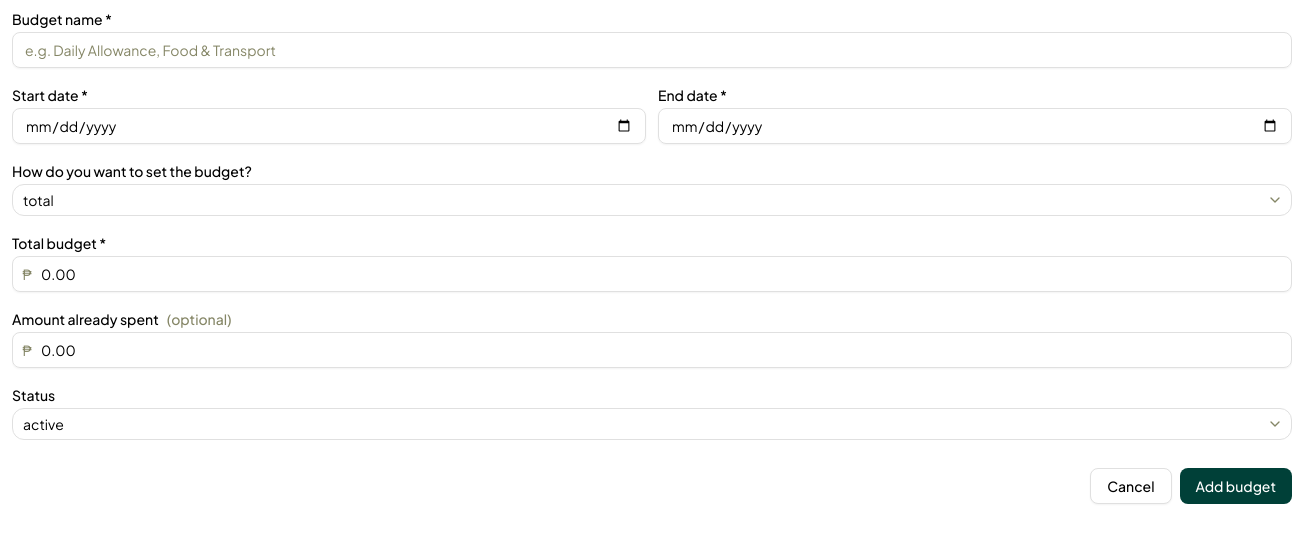
Test: AllowanceBudgetForm › shows days in range when both dates are filled
Type "2026-07-01" into the date field labelled "Start date *". click: (329,126)
box: [12,108,646,144]
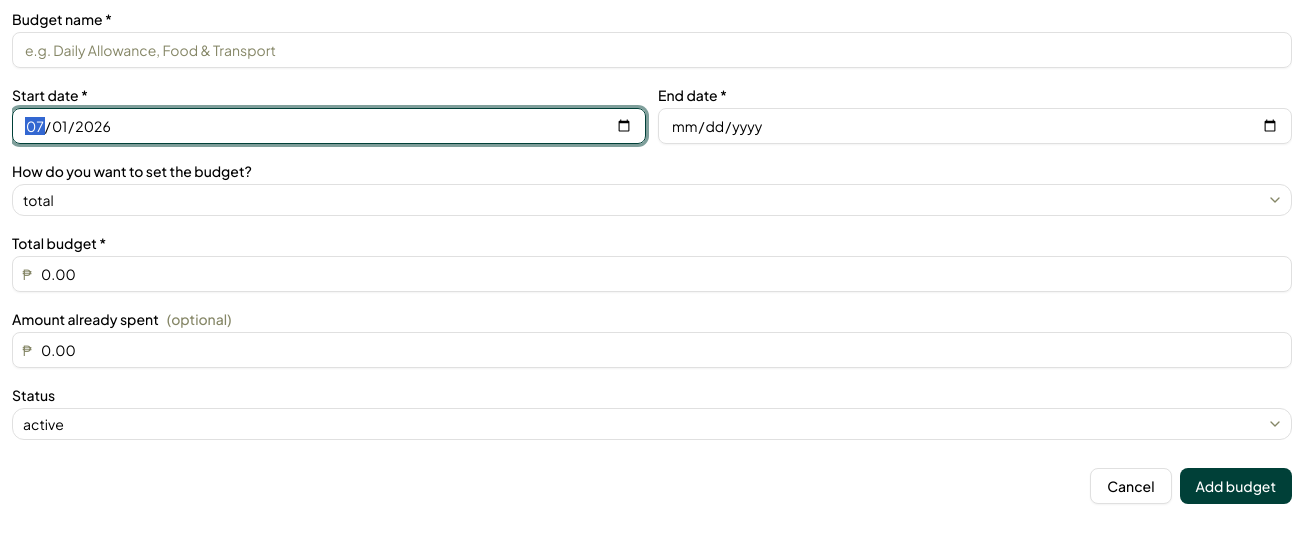
Type "2026-07-07" into the date field labelled "End date *". click: (975,126)
box: [658,108,1292,144]
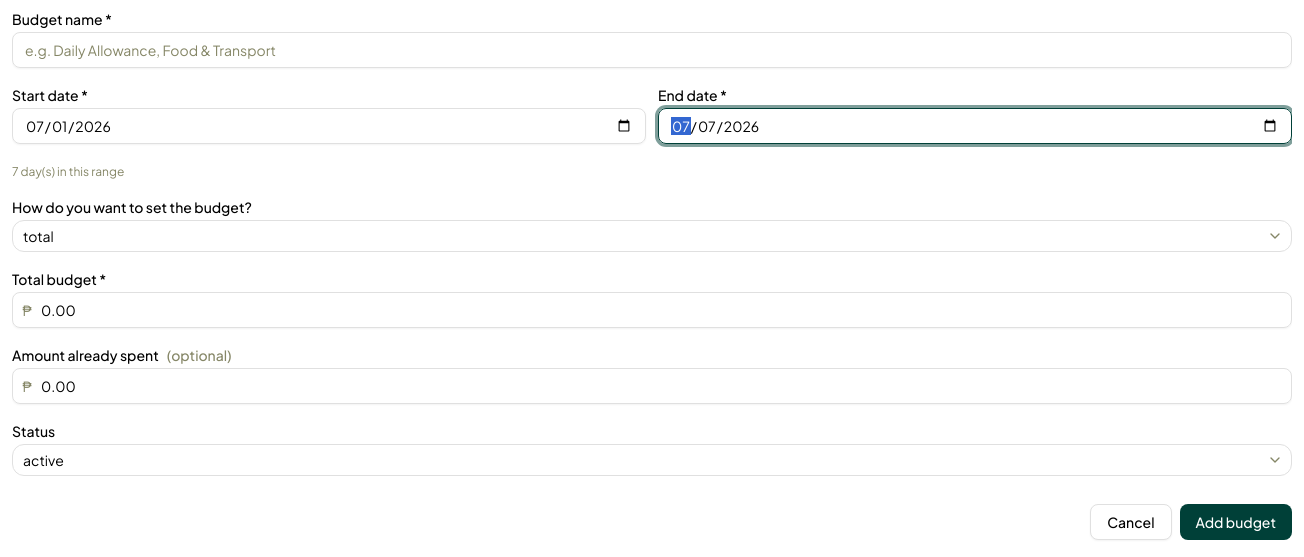
Check: the text "7 day(s) in this range" is shown, box [12,164,124,179]
